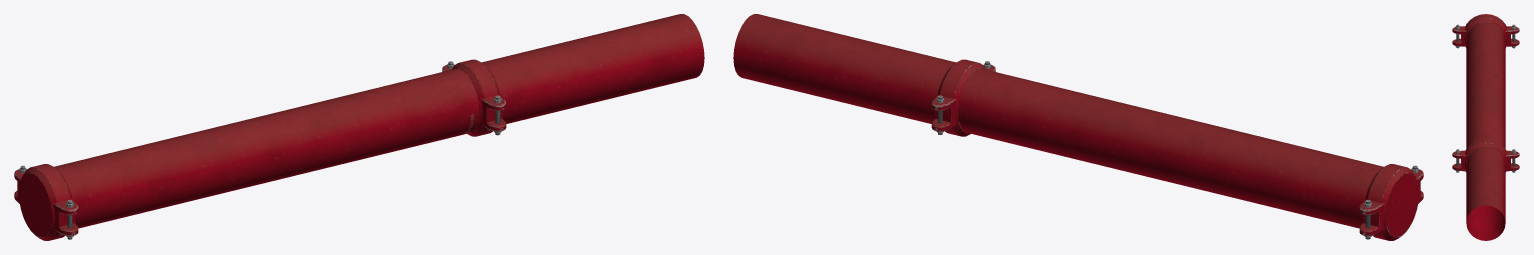
Rendered from SM_Pipe_Module_01a.fbx.
3 views of the same model, side by side, from view 1: azimuth 30°, elevation 25°; view 2: azimuth 150°, elevation 25°; view 3: azimuth 270°, elevation 25° (orthographic). The views are drawn at different scales.
Visible parts, largest first — view 1: SM_Pipe_Module_01a; view 2: SM_Pipe_Module_01a; view 3: SM_Pipe_Module_01a.
Boxes of the visible parts, box(x1,y1,x2,y2) form: SM_Pipe_Module_01a: box(14, 14, 704, 240); SM_Pipe_Module_01a: box(733, 14, 1423, 240); SM_Pipe_Module_01a: box(1452, 14, 1519, 240).
Bounding box in the file's own units: 183 × 27.31 × 18.43.
Materials: 1 (1 with a texture image).
